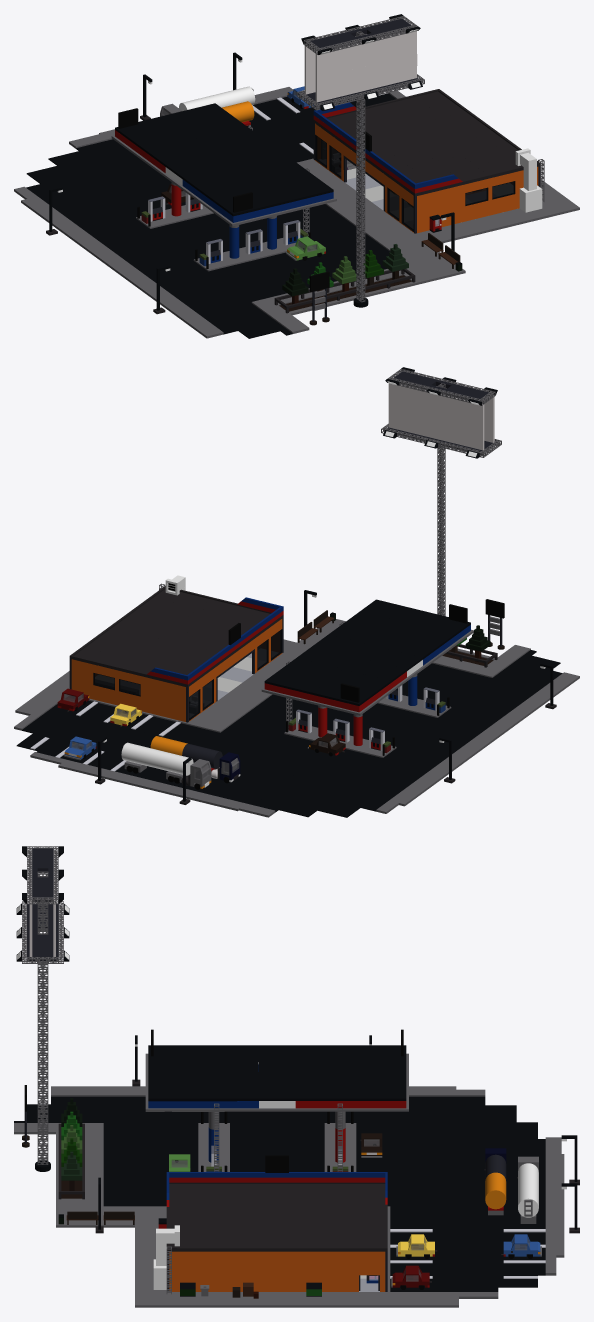
Rendered from map_4.obj.
The picture shows the model from 3 angles, top to bottom: view 1: azimuth 30°, elevation 25°; view 2: azimuth 150°, elevation 25°; view 3: azimuth 270°, elevation 25°; orthographic projection. The views are drawn at different scales.
Parts seen in each view (by area): view 1: Part1025, Part1022, Part1047, Part1128, Part259, Part1042, Part1134, Part1005, Part1016, Part1017, Part1024, Part1044 (+58 smaller); view 2: Part325, Part1044, Part1022, Part1128, Part1005, Part1047, Part1042, Part231, Part1025, Part1016, Part1024, Part1017 (+39 smaller); view 3: Part264, Part205, Part760, Part308, Part686, Part1025, Part1046, Part1016, Part1017, Part1044, Part1049, Part1024 (+42 smaller).
Boxes of the visible parts, x1=… form: Part1025: x1=267, y1=177, x2=333, y2=203; Part1022: x1=148, y1=140, x2=215, y2=166; Part1047: x1=165, y1=152, x2=232, y2=178; Part1128: x1=182, y1=165, x2=248, y2=190; Part259: x1=440, y1=184, x2=465, y2=226; Part1042: x1=132, y1=128, x2=198, y2=153; Part1134: x1=208, y1=308, x2=275, y2=334; Part1005: x1=199, y1=177, x2=265, y2=203; Part1016: x1=199, y1=128, x2=265, y2=152; Part1017: x1=182, y1=115, x2=248, y2=139; Part1024: x1=216, y1=140, x2=282, y2=164; Part1044: x1=165, y1=103, x2=231, y2=127; Part325: x1=140, y1=676, x2=164, y2=716; Part1044: x1=264, y1=669, x2=327, y2=694; Part1022: x1=344, y1=657, x2=406, y2=682; Part1128: x1=376, y1=634, x2=438, y2=659; Part1005: x1=392, y1=622, x2=454, y2=647; Part1047: x1=360, y1=646, x2=422, y2=670; Part1042: x1=328, y1=669, x2=391, y2=694; Part231: x1=164, y1=682, x2=185, y2=721; Part1025: x1=360, y1=599, x2=422, y2=622; Part1016: x1=297, y1=646, x2=359, y2=669; Part1024: x1=313, y1=634, x2=375, y2=657; Part1017: x1=281, y1=658, x2=343, y2=680; Part264: x1=324, y1=1251, x2=356, y2=1291; Part205: x1=261, y1=1251, x2=292, y2=1291; Part760: x1=198, y1=1251, x2=229, y2=1291; Part308: x1=230, y1=1251, x2=261, y2=1291; Part686: x1=293, y1=1251, x2=324, y2=1291; Part1025: x1=148, y1=1072, x2=184, y2=1101; Part1046: x1=185, y1=1072, x2=221, y2=1101; Part1016: x1=295, y1=1072, x2=332, y2=1100; Part1017: x1=332, y1=1072, x2=369, y2=1100; Part1044: x1=369, y1=1072, x2=406, y2=1100; Part1049: x1=222, y1=1072, x2=258, y2=1101; Part1024: x1=259, y1=1072, x2=295, y2=1100.
Bounding box in the file's own units: 203 × 124 × 215.
